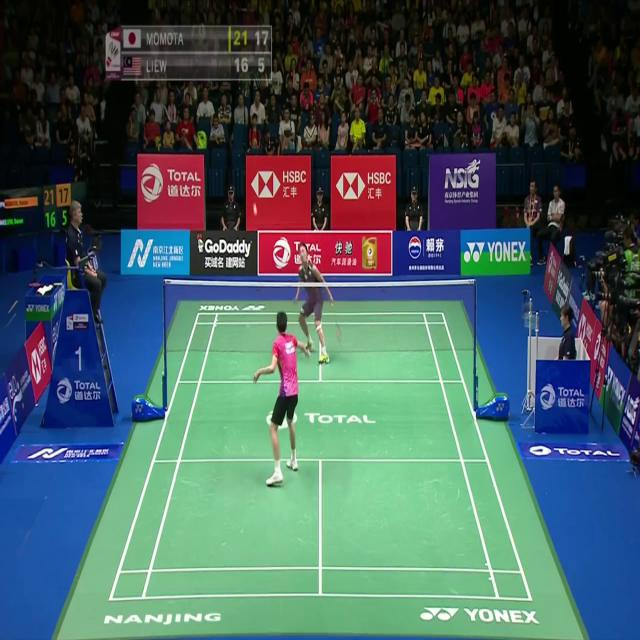Shuttlecock: (251, 204, 258, 216)
